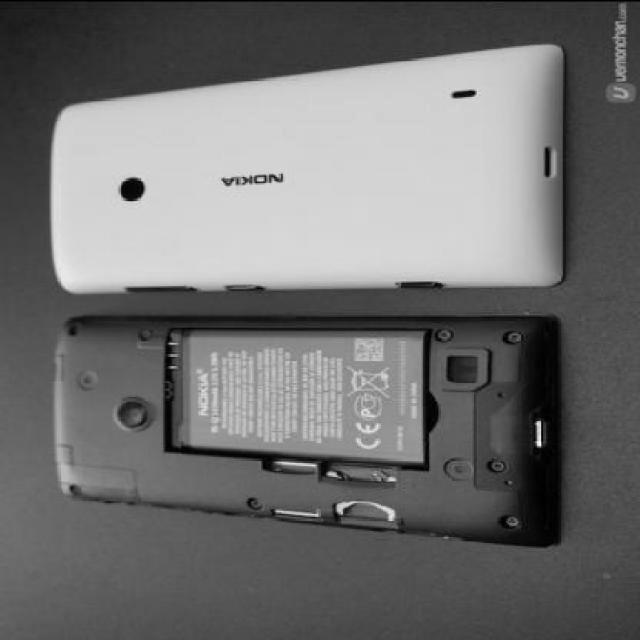fake: (31, 292, 567, 540)
